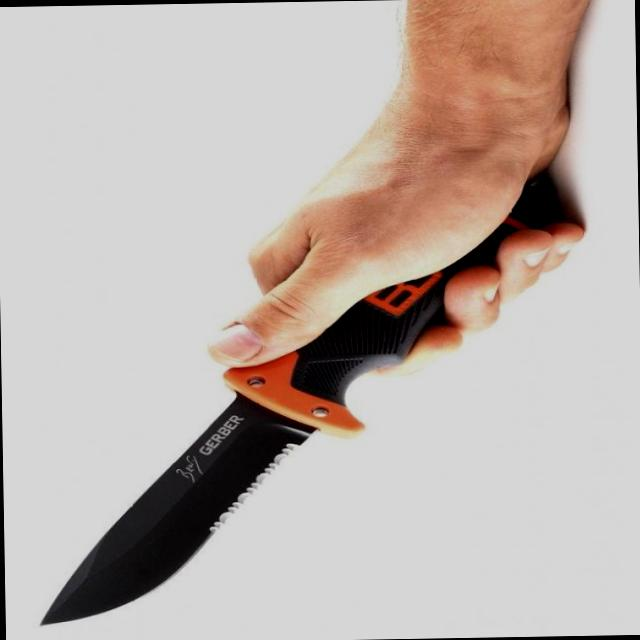knife: (16, 282, 480, 634)
